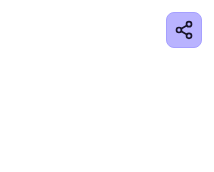
Test: game sharing › shows a temporary tooltip after copying and restarts its delay on another click
Later steps or results of the test are not shown.
Click the button named "Partager le tirage": (184, 30) [166, 12, 202, 48]
Wait 1500 ms
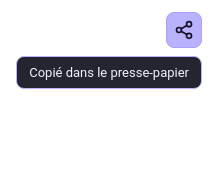
Check: the tooltip reads "Copié dans le presse-papier", box [29, 65, 189, 80]
Click the button named "Partager le tirage": (184, 30) [166, 12, 202, 48]
Wait 2000 ms
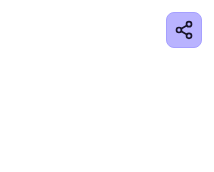
Check: the tooltip "Copié dans le presse-papier" is gone
